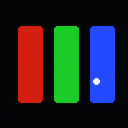0 point: (93, 78, 99, 84)
